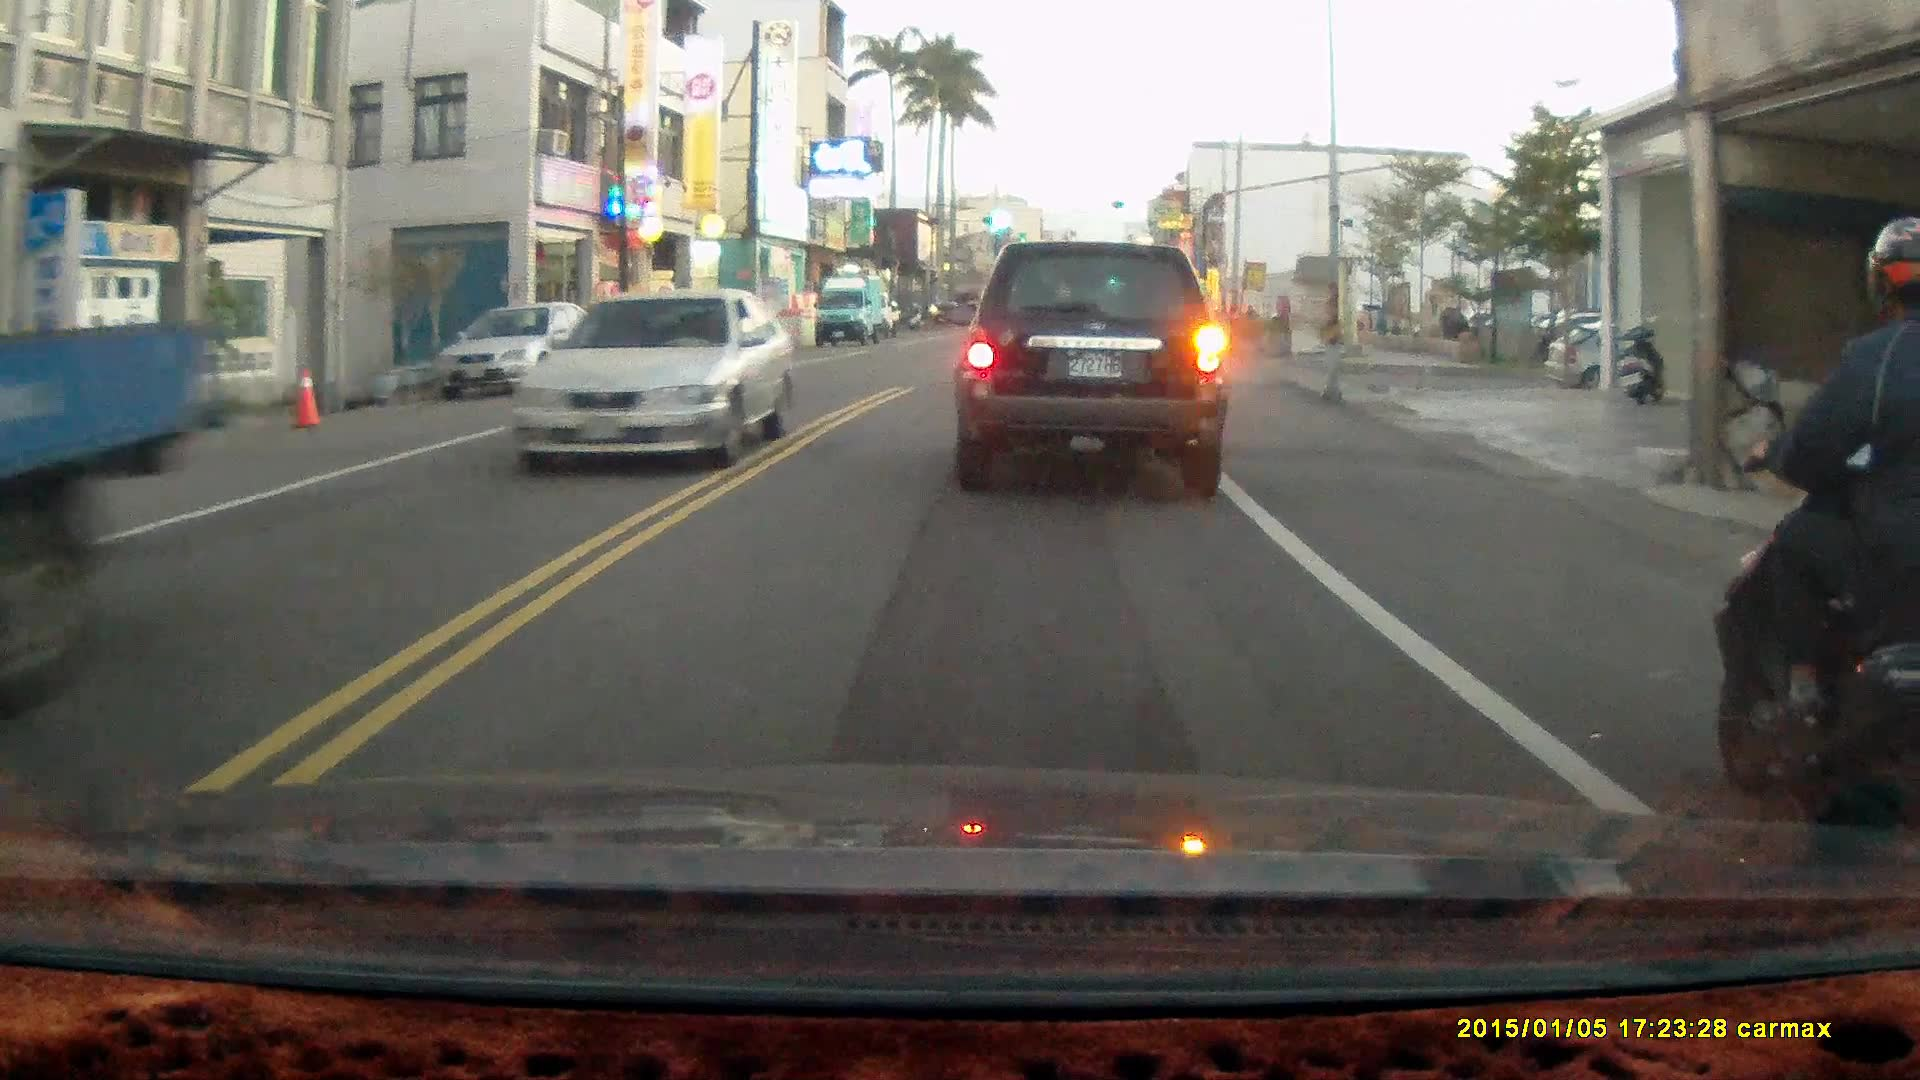rider: (1706, 212, 1919, 891)
vehicle: (953, 240, 1233, 500), (1, 317, 198, 614), (505, 286, 792, 479), (430, 303, 616, 398), (1541, 326, 1747, 402), (816, 274, 893, 348)
